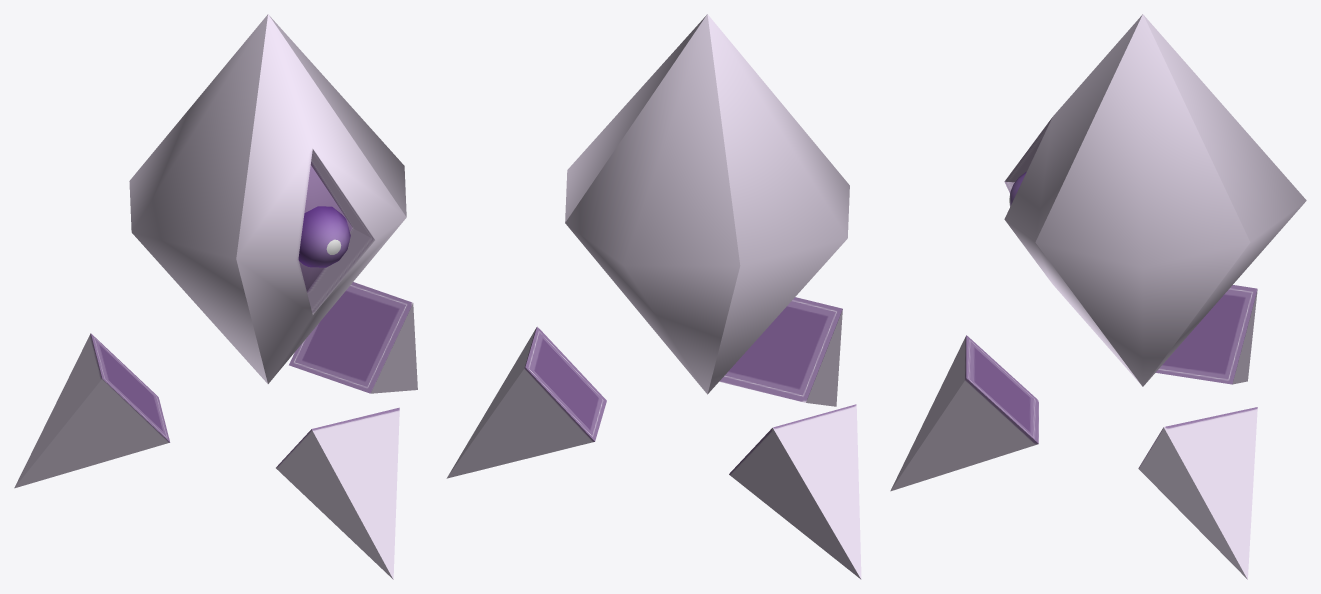
File: enemy02.fbx
3 renders of one model, left to right at view 1: azimuth 30°, elevation 25°; view 2: azimuth 150°, elevation 25°; view 3: azimuth 270°, elevation 25°, orthographic. The views are drawn at different scales.
Visible parts, largest first — view 1: pCube4; view 2: pCube4; view 3: pCube4.
Part boxes in pixels (bbox=[...]): pCube4: bbox=[14, 14, 417, 579]; pCube4: bbox=[446, 14, 861, 579]; pCube4: bbox=[890, 14, 1306, 579].
Size of the model in its own units: 71.25 by 79.92 by 63.2.
Materials: 1 (1 with a texture image).
